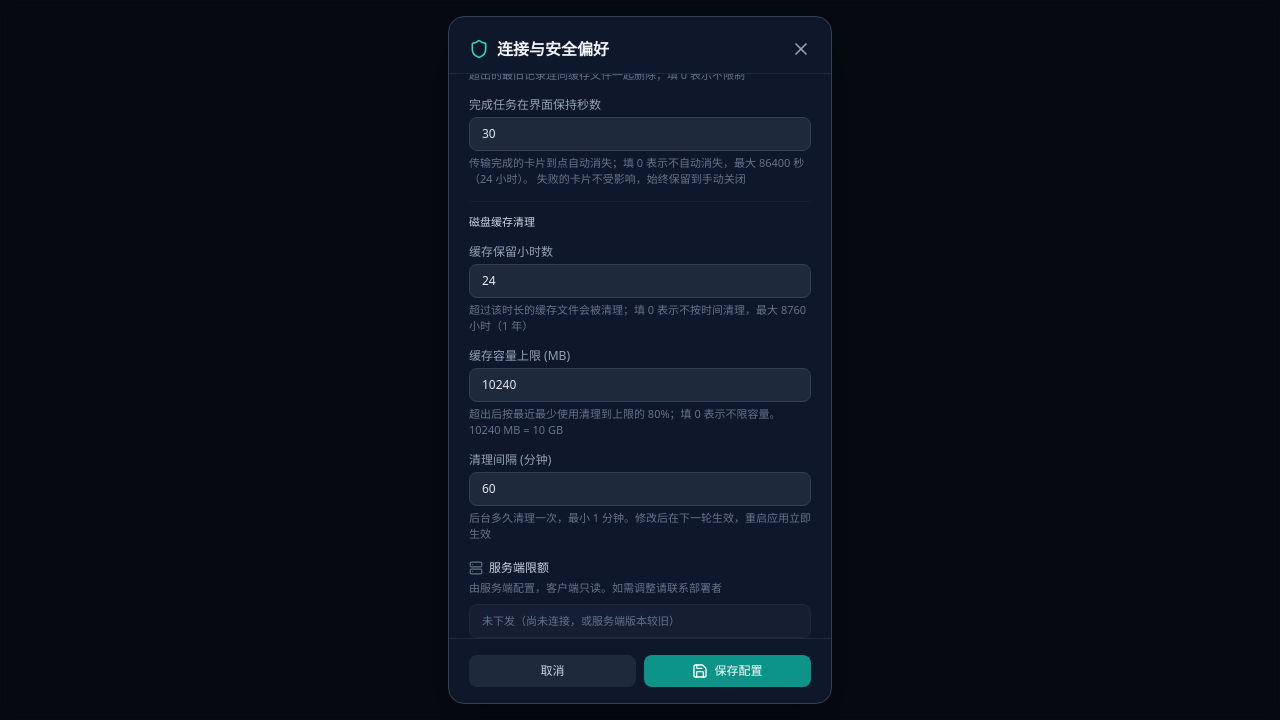
Test case: 设置面板的数值校验 › 清理间隔为 0 被拦下——它不能像另两个字段那样表示「关闭」
(page scrolled)
Replace the text in the number field labelled "清理间隔 (分钟)" with "0". click: (640,489)
box: [469, 472, 811, 506]
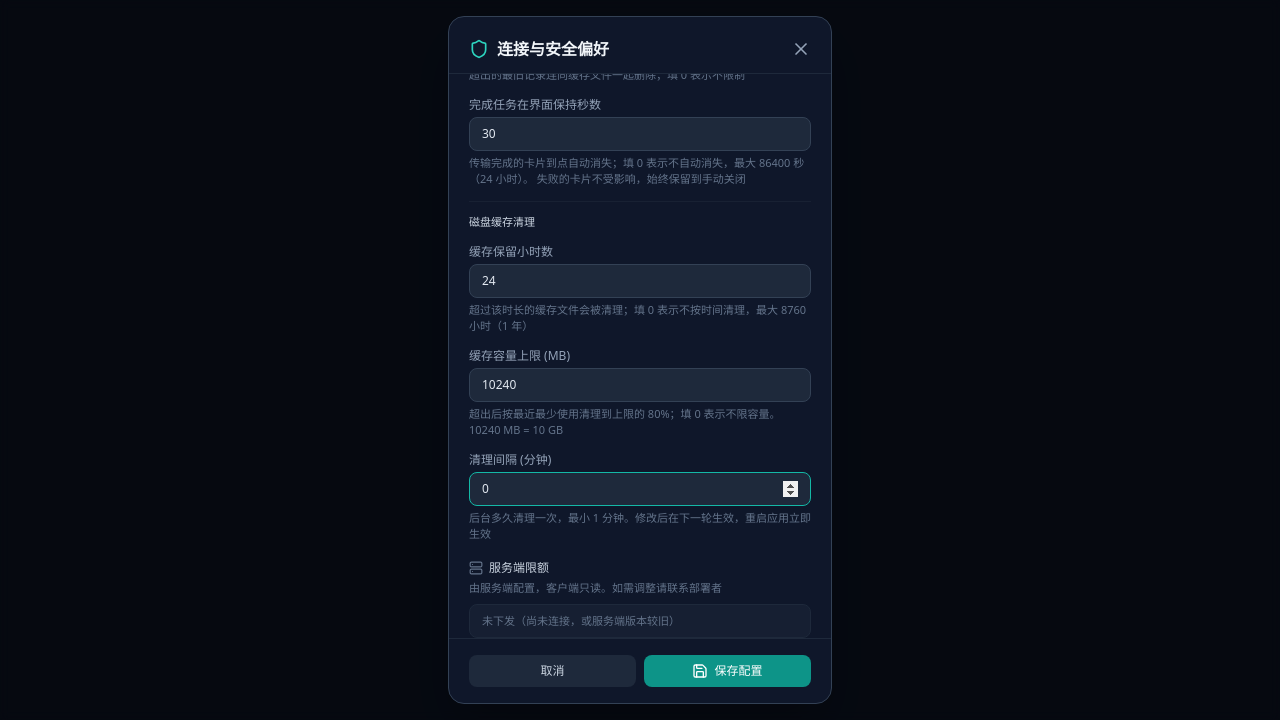
Click the button "保存配置". click: (728,671)
box: [644, 655, 811, 687]
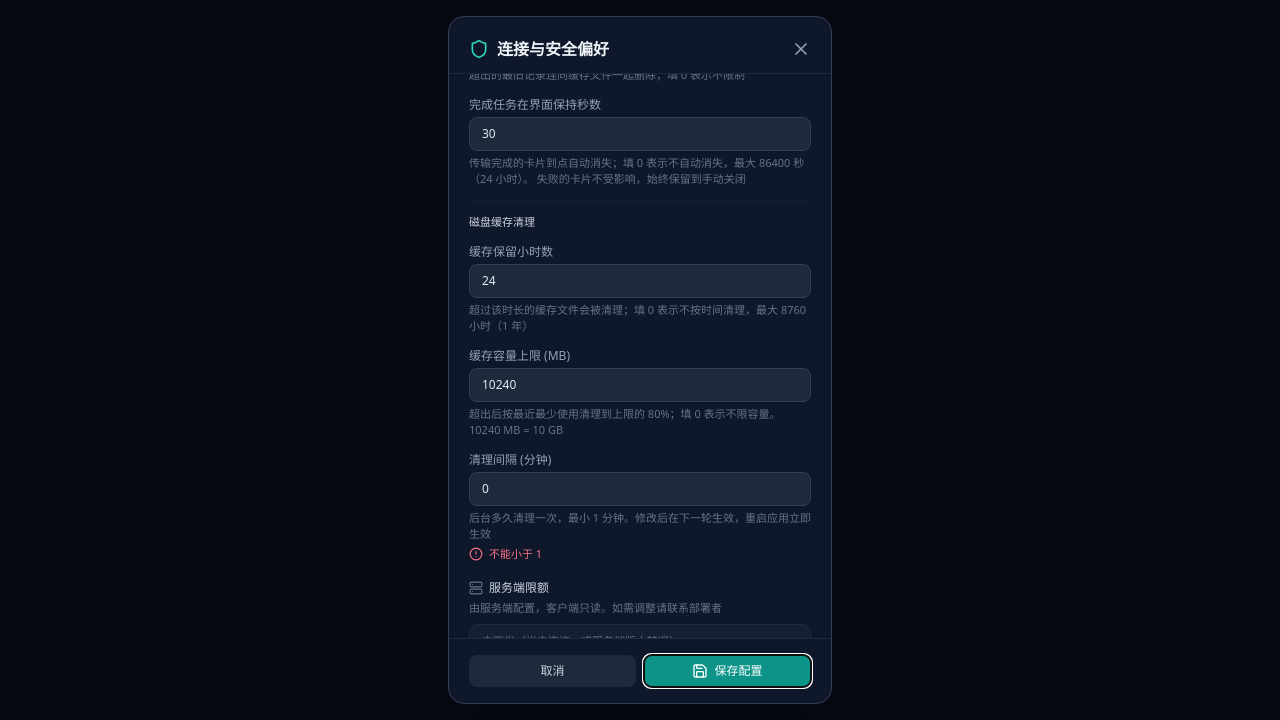
Result: the text "不能小于 1" is shown at [489, 546, 542, 562]
